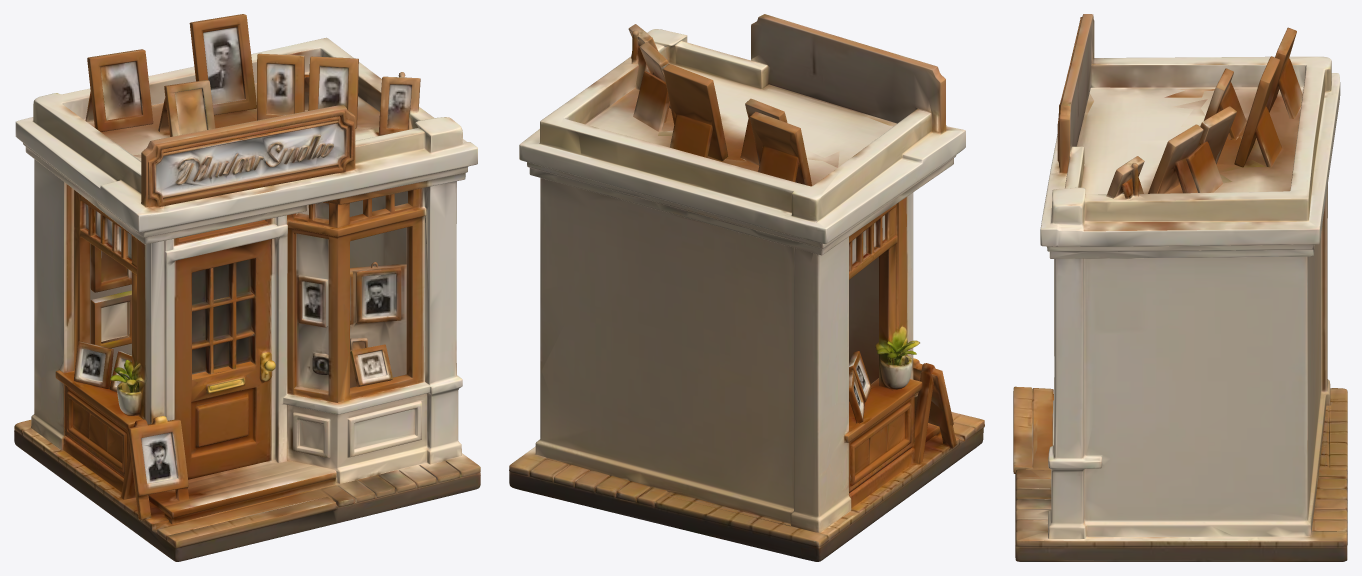
The model's file is zhaoxiangguan.glb.
3 views of the same model, side by side, from view 1: azimuth 30°, elevation 25°; view 2: azimuth 150°, elevation 25°; view 3: azimuth 270°, elevation 25° (orthographic). The views are drawn at different scales.
Visible parts, largest first — view 1: node_0; view 2: node_0; view 3: node_0.
Boxes of the visible parts, x1,y1,x2,y2 form: node_0: (14,14,480,561); node_0: (509,14,984,561); node_0: (1013,14,1347,561).
Size of the model in its own units: 0.6828 by 0.8319 by 0.593.
Materials: 1 (1 with a texture image).
